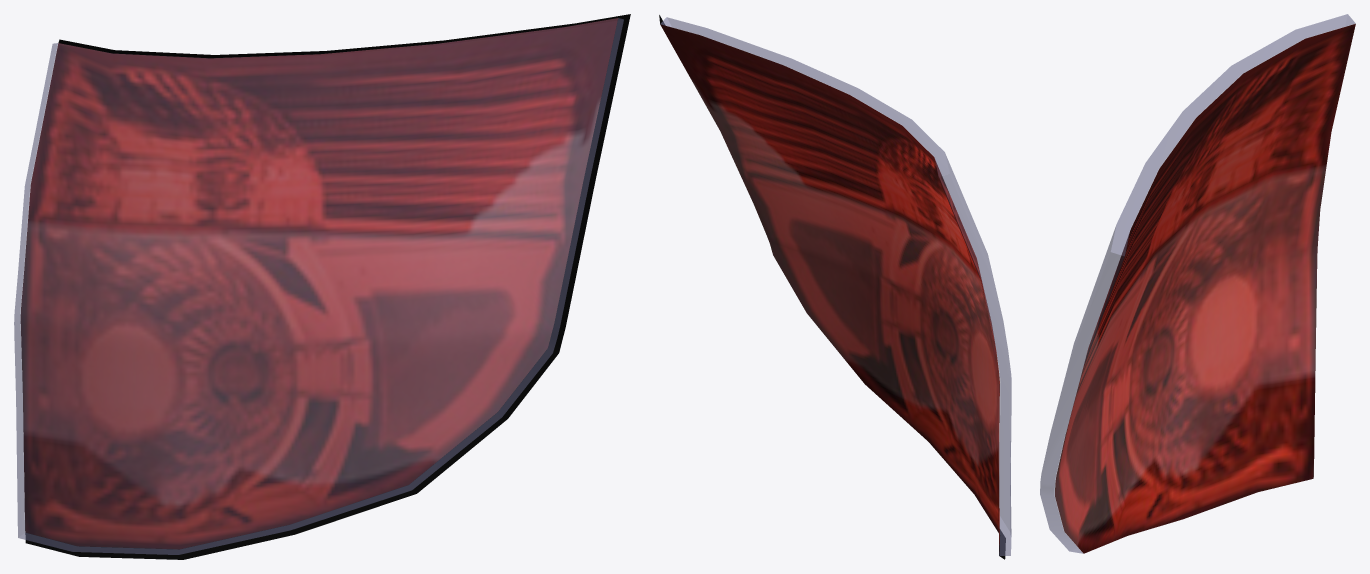
3 renders of one model, left to right at view 1: azimuth 30°, elevation 25°; view 2: azimuth 150°, elevation 25°; view 3: azimuth 270°, elevation 25°, orthographic. The views are drawn at different scales.
Parts seen in each view (by area): view 1: Y613_541C_R_Y613_541C_R_2_DTaSI, Y613_541C_R_1_N_Y613_541C_R, Y613_541C_R_Y613_541C_R_3_D; view 2: Y613_541C_R_1_N_Y613_541C_R, Y613_541C_R_Y613_541C_R_2_DTaSI; view 3: Y613_541C_R_1_N_Y613_541C_R, Y613_541C_R_Y613_541C_R_2_DTaSI.
Boxes of the visible parts, box(x1,y1,x2,y2) form: Y613_541C_R_Y613_541C_R_2_DTaSI: box(14, 18, 623, 554); Y613_541C_R_1_N_Y613_541C_R: box(20, 18, 617, 549); Y613_541C_R_Y613_541C_R_3_D: box(25, 14, 630, 559); Y613_541C_R_1_N_Y613_541C_R: box(660, 24, 999, 552); Y613_541C_R_Y613_541C_R_2_DTaSI: box(660, 17, 1011, 555); Y613_541C_R_1_N_Y613_541C_R: box(1055, 24, 1355, 553); Y613_541C_R_Y613_541C_R_2_DTaSI: box(1040, 14, 1355, 553).
Bounding box in the file's own units: 28.65 × 24.91 × 14.35.
